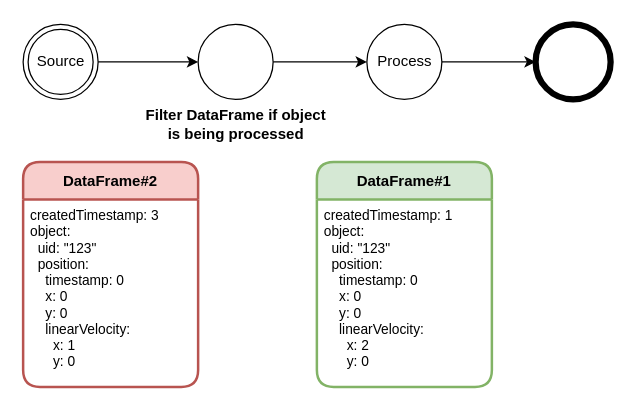
Image size: 635x410. Some labels were removed from this diagram. Each missing label, with the centre of its shape:
Filter: the point at 235,61
Sink: the point at 572,61
